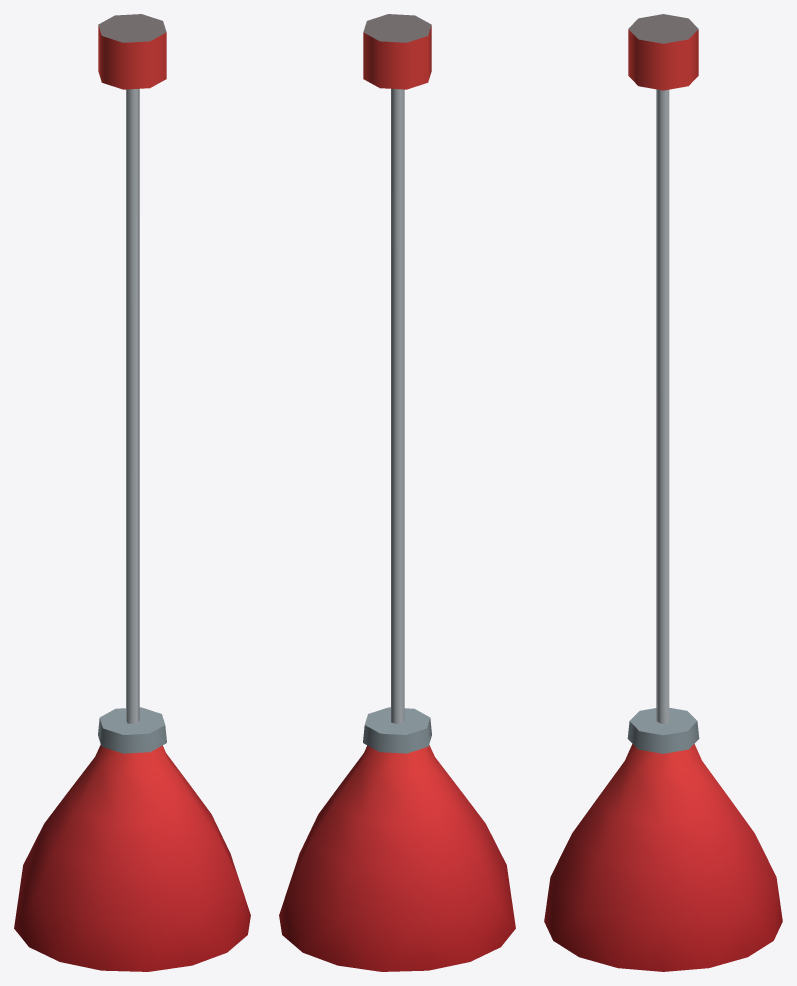
The model's file is Lamp_05.glb.
3 views of the same model, side by side, from view 1: azimuth 30°, elevation 25°; view 2: azimuth 150°, elevation 25°; view 3: azimuth 270°, elevation 25° (orthographic).
Visible parts, largest first — view 1: Lamp_05; view 2: Lamp_05; view 3: Lamp_05.
Boxes of the visible parts, left/top/right/bottom form: Lamp_05: left=14, top=14, right=250, bottom=971; Lamp_05: left=279, top=14, right=515, bottom=971; Lamp_05: left=544, top=14, right=782, bottom=971.
Bounding box in the file's own units: 0.82 × 3.38 × 0.82.
Materials: 2 (2 with a texture image).
